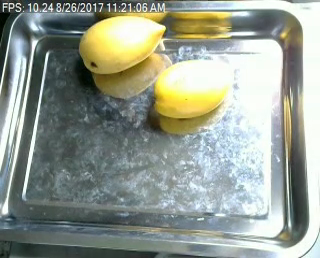Mango: (79, 16, 166, 73), (157, 59, 230, 116)
